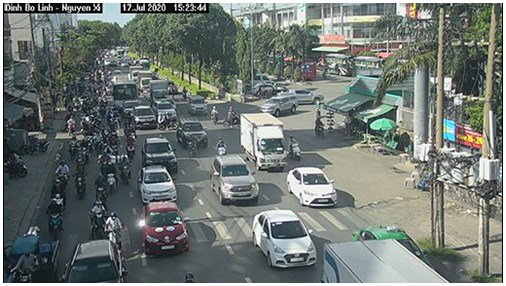xe_ba_gac: (3, 226, 60, 283)
xe_buyt: (111, 80, 139, 107)
xe_hoi: (252, 210, 317, 269), (61, 240, 130, 283), (141, 199, 191, 258), (209, 155, 260, 206), (286, 165, 339, 209), (136, 165, 183, 203), (141, 138, 180, 174), (176, 117, 209, 150), (130, 104, 156, 131), (186, 94, 209, 115)
xe_may: (46, 193, 66, 238), (88, 198, 107, 237), (106, 209, 123, 252), (49, 178, 69, 208), (76, 158, 89, 200), (93, 172, 109, 205), (104, 160, 118, 194), (120, 153, 133, 186), (53, 157, 69, 183), (288, 134, 303, 161), (223, 105, 239, 130), (125, 131, 138, 157), (106, 130, 119, 155), (212, 136, 228, 156), (314, 116, 327, 140), (78, 138, 90, 163), (209, 104, 221, 127), (187, 133, 197, 159), (68, 134, 77, 156)
xe_tai: (237, 111, 289, 172)
